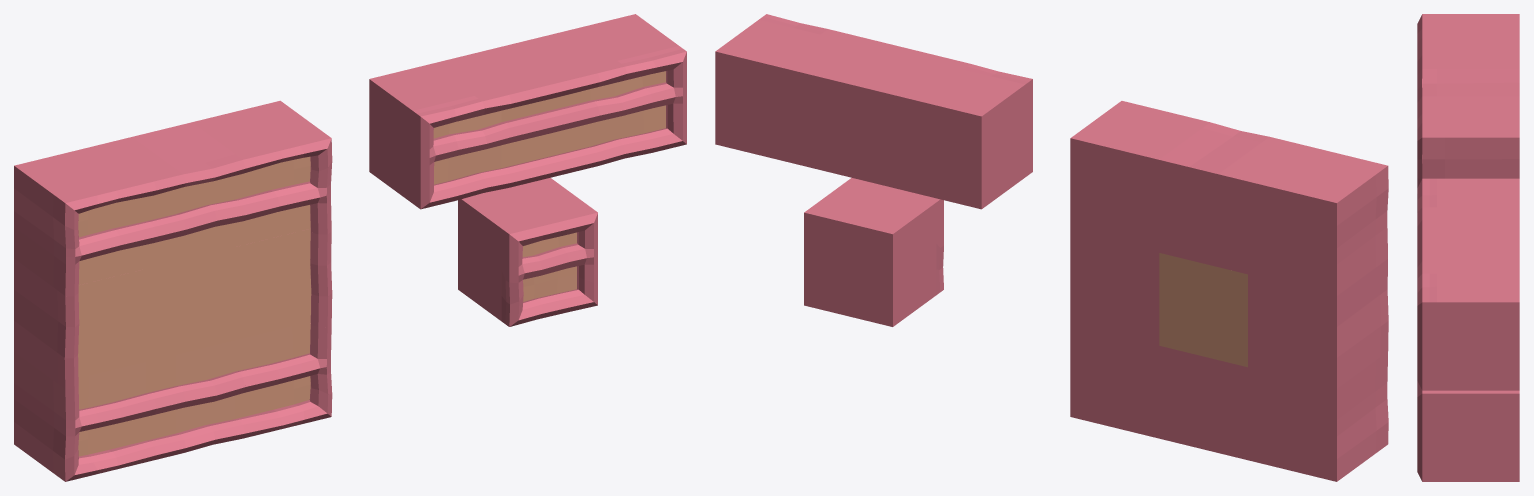
File: Modelado_Suelo_Tiles_Pastel_002.glb
3 renders of one model, left to right at view 1: azimuth 30°, elevation 25°; view 2: azimuth 150°, elevation 25°; view 3: azimuth 270°, elevation 25°, orthographic. The views are drawn at different scales.
Visible parts, largest first — view 1: Mesh_Suelo_Tile_Esquina_Estrecho_001, Suelo_Tile_Estrecho_Centro_001, Mesh_Suelo_Tile_Esquina_001, Mesh_Suelo_Tile_Esquina_004, Mesh_Suelo_Esquina_Estrecho_002, Mesh_Suelo_Estrecho_Medio_001, Mesh_Suelo_Tile_Esquina_002, Mesh_Suelo_Tile_Lateral_001, Mesh_Suelo_Tile_Medio_001, Mesh_Suelo_Tile_Esquina_003, Mesh_Suelo_Tile_Lateral_002, Mesh_Suelo_Tile_Medio_002 (+1 smaller); view 2: Mesh_Suelo_Tile_Esquina_001, Mesh_Suelo_Tile_Esquina_Estrecho_001, Suelo_Tile_Estrecho_Centro_001, Mesh_Suelo_Tile_Lateral_001, Mesh_Suelo_Tile_Esquina_004, Mesh_Suelo_Tile_Esquina_002, Mesh_Suelo_Estrecho_Medio_001, Mesh_Suelo_Esquina_Estrecho_002, Mesh_Suelo_Tile_Medio_001, Mesh_Suelo_Tile_Esquina_003, Mesh_Suelo_Tile_Lateral_002, Mesh_Suelo_Tile_Centro_001 (+1 smaller); view 3: Mesh_Suelo_Esquina_Estrecho_002, Suelo_Tile_Estrecho_Centro_001, Mesh_Suelo_Tile_Esquina_002, Mesh_Suelo_Tile_Esquina_Estrecho_001, Mesh_Suelo_Tile_Medio_001, Mesh_Suelo_Tile_Esquina_001, Mesh_Suelo_Estrecho_Medio_001.
Boxes of the visible parts, x1=… form: Mesh_Suelo_Tile_Esquina_Estrecho_001: x1=369, y1=57, x2=511, y2=209; Suelo_Tile_Estrecho_Centro_001: x1=458, y1=178, x2=597, y2=326; Mesh_Suelo_Tile_Esquina_001: x1=14, y1=144, x2=156, y2=296; Mesh_Suelo_Tile_Esquina_004: x1=14, y1=352, x2=156, y2=481; Mesh_Suelo_Esquina_Estrecho_002: x1=547, y1=14, x2=686, y2=165; Mesh_Suelo_Estrecho_Medio_001: x1=458, y1=35, x2=600, y2=187; Mesh_Suelo_Tile_Esquina_002: x1=192, y1=100, x2=332, y2=246; Mesh_Suelo_Tile_Lateral_001: x1=14, y1=259, x2=146, y2=389; Mesh_Suelo_Tile_Medio_001: x1=103, y1=122, x2=245, y2=268; Mesh_Suelo_Tile_Esquina_003: x1=235, y1=321, x2=332, y2=438; Mesh_Suelo_Tile_Lateral_002: x1=235, y1=229, x2=332, y2=339; Mesh_Suelo_Tile_Medio_002: x1=146, y1=340, x2=245, y2=459; Mesh_Suelo_Tile_Esquina_001: x1=1248, y1=144, x2=1388, y2=295; Mesh_Suelo_Tile_Esquina_Estrecho_001: x1=893, y1=57, x2=1032, y2=209; Suelo_Tile_Estrecho_Centro_001: x1=804, y1=178, x2=943, y2=326; Mesh_Suelo_Tile_Lateral_001: x1=1248, y1=259, x2=1388, y2=388; Mesh_Suelo_Tile_Esquina_004: x1=1248, y1=352, x2=1388, y2=481; Mesh_Suelo_Tile_Esquina_002: x1=1070, y1=101, x2=1209, y2=252; Mesh_Suelo_Estrecho_Medio_001: x1=804, y1=35, x2=943, y2=187; Mesh_Suelo_Esquina_Estrecho_002: x1=715, y1=14, x2=854, y2=165; Mesh_Suelo_Tile_Medio_001: x1=1159, y1=122, x2=1298, y2=274; Mesh_Suelo_Tile_Esquina_003: x1=1070, y1=324, x2=1159, y2=438; Mesh_Suelo_Tile_Lateral_002: x1=1070, y1=231, x2=1159, y2=345; Mesh_Suelo_Tile_Centro_001: x1=1159, y1=253, x2=1247, y2=367; Mesh_Suelo_Esquina_Estrecho_002: x1=1417, y1=261, x2=1519, y2=390; Suelo_Tile_Estrecho_Centro_001: x1=1417, y1=381, x2=1519, y2=481; Mesh_Suelo_Tile_Esquina_002: x1=1417, y1=96, x2=1519, y2=187; Mesh_Suelo_Tile_Esquina_Estrecho_001: x1=1417, y1=178, x2=1519, y2=299; Mesh_Suelo_Tile_Medio_001: x1=1417, y1=55, x2=1519, y2=102; Mesh_Suelo_Tile_Esquina_001: x1=1417, y1=14, x2=1519, y2=61; Mesh_Suelo_Estrecho_Medio_001: x1=1417, y1=220, x2=1519, y2=267.
Size of the model in its own units: 14.01 by 6 by 2.1.
